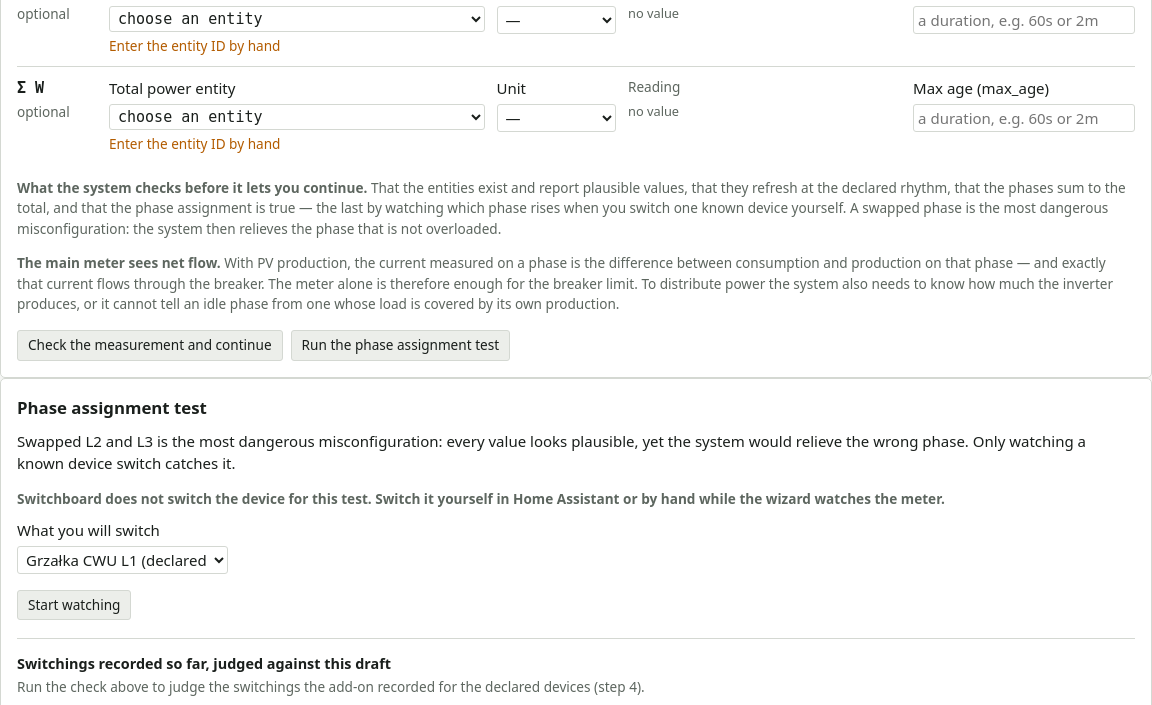
Test: check and continue › a skipped phase sum is shown as skipped, never as passed
The image size is (1152, 705).
(page scrolled)
Click the button "Check the measurement and continue". click: coordinates (150, 346)
box: [17,330,283,361]
(page scrolled)
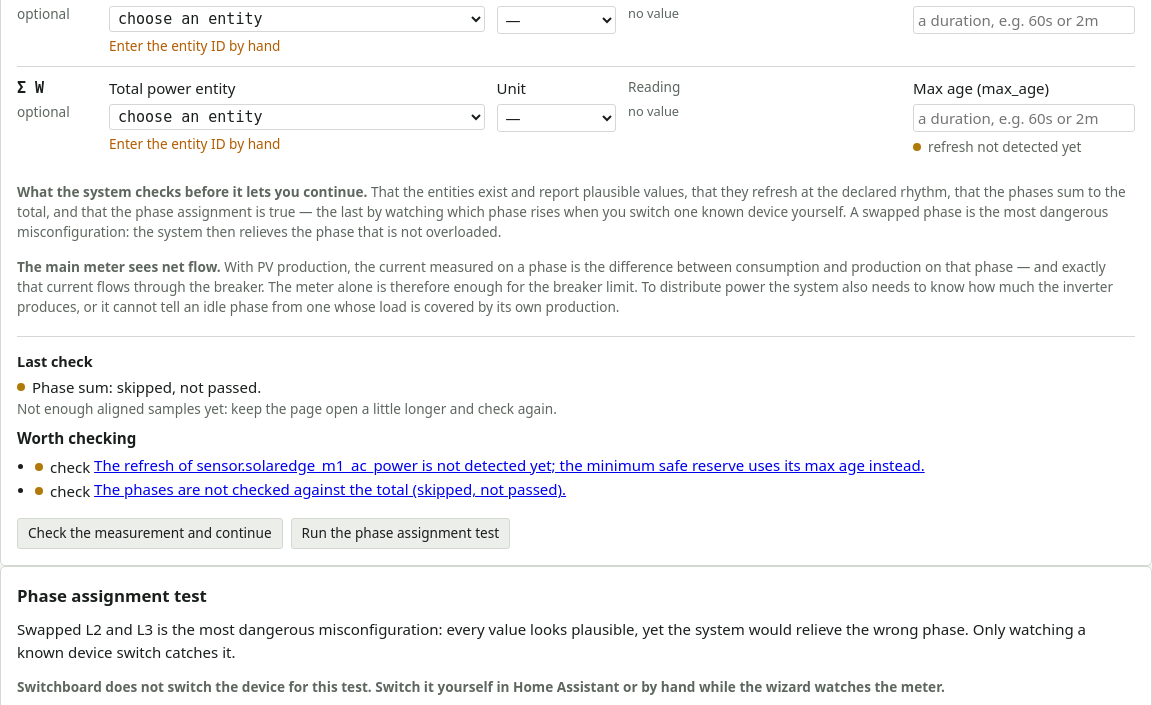
Check: the element that starts with "Phase sum: skipped, not passed." is shown, box [32,377,261,397]
